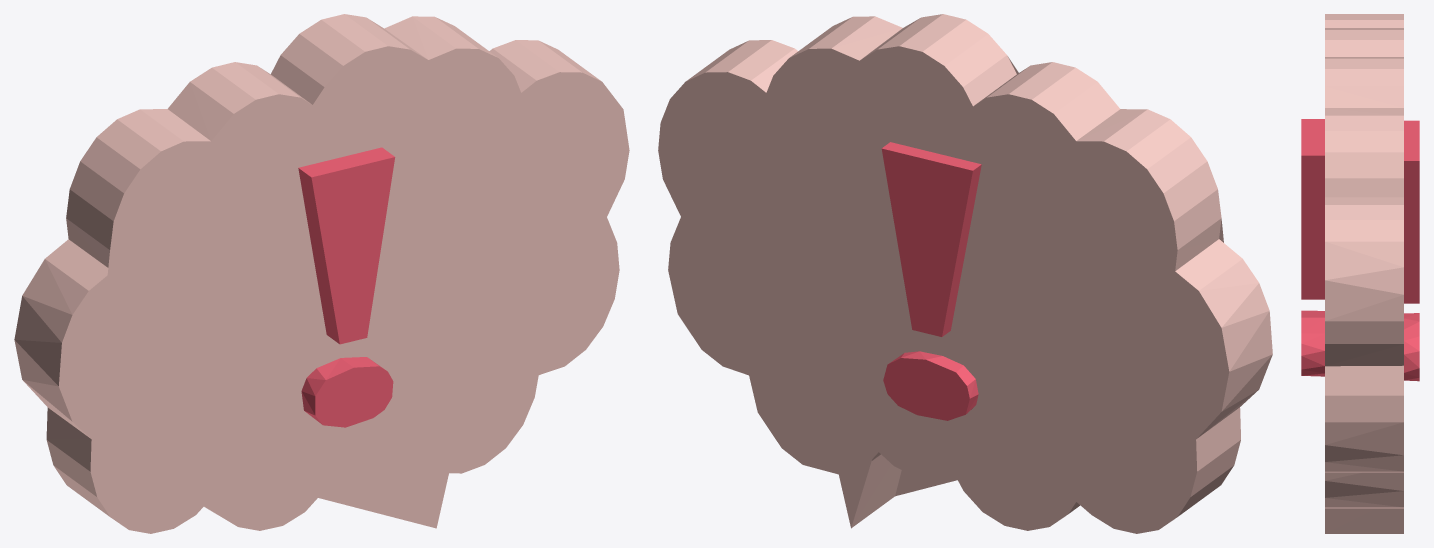
File: comunication_error.fbx
3 renders of one model, left to right at view 1: azimuth 30°, elevation 25°; view 2: azimuth 150°, elevation 25°; view 3: azimuth 270°, elevation 25°, orthographic. The views are drawn at different scales.
Visible parts, largest first — view 1: obj_0; view 2: obj_0; view 3: obj_0.
Part boxes in pixels (bbox=[...]): obj_0: bbox=[14, 14, 629, 533]; obj_0: bbox=[658, 14, 1272, 533]; obj_0: bbox=[1301, 14, 1419, 533].
Bounding box in the file's own units: 750 × 620 × 150.
